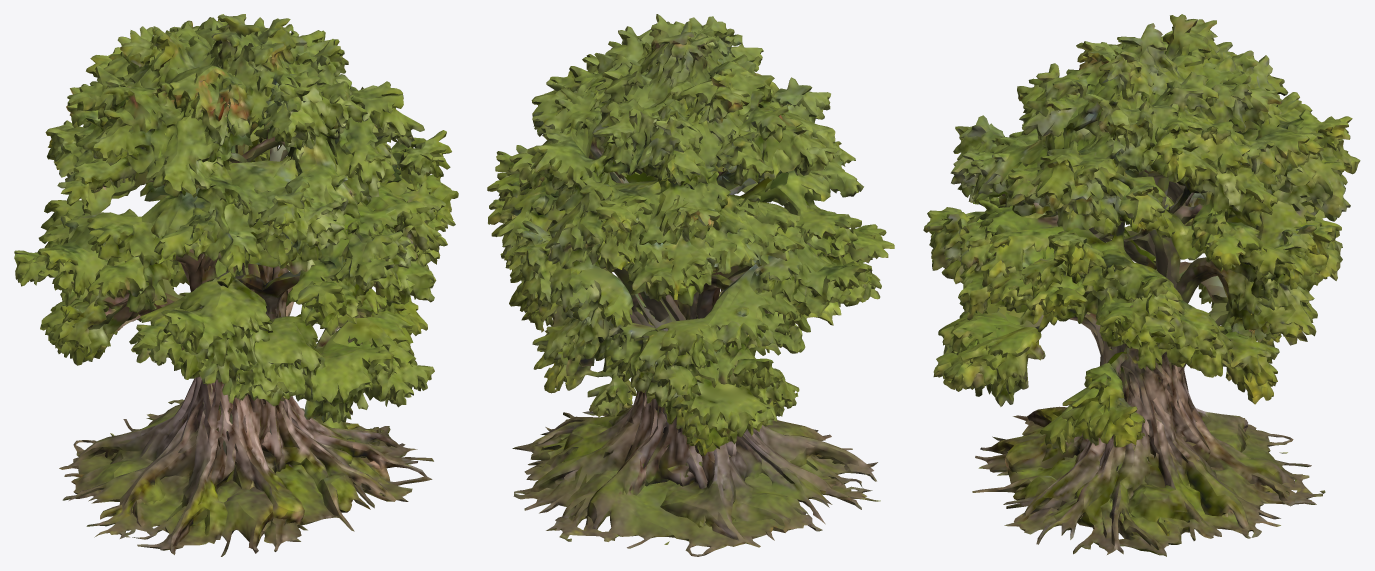
File: Oak_01.fbx
3 views of the same model, side by side, from view 1: azimuth 30°, elevation 25°; view 2: azimuth 150°, elevation 25°; view 3: azimuth 270°, elevation 25° (orthographic). The views are drawn at different scales.
Visible parts, largest first — view 1: geometry_0; view 2: geometry_0; view 3: geometry_0.
Part boxes in pixels (<box>): geometry_0: <box>14,14,458,556</box>; geometry_0: <box>487,14,894,556</box>; geometry_0: <box>923,14,1360,556</box>.
Size of the model in its own units: 791 by 900 by 788.
